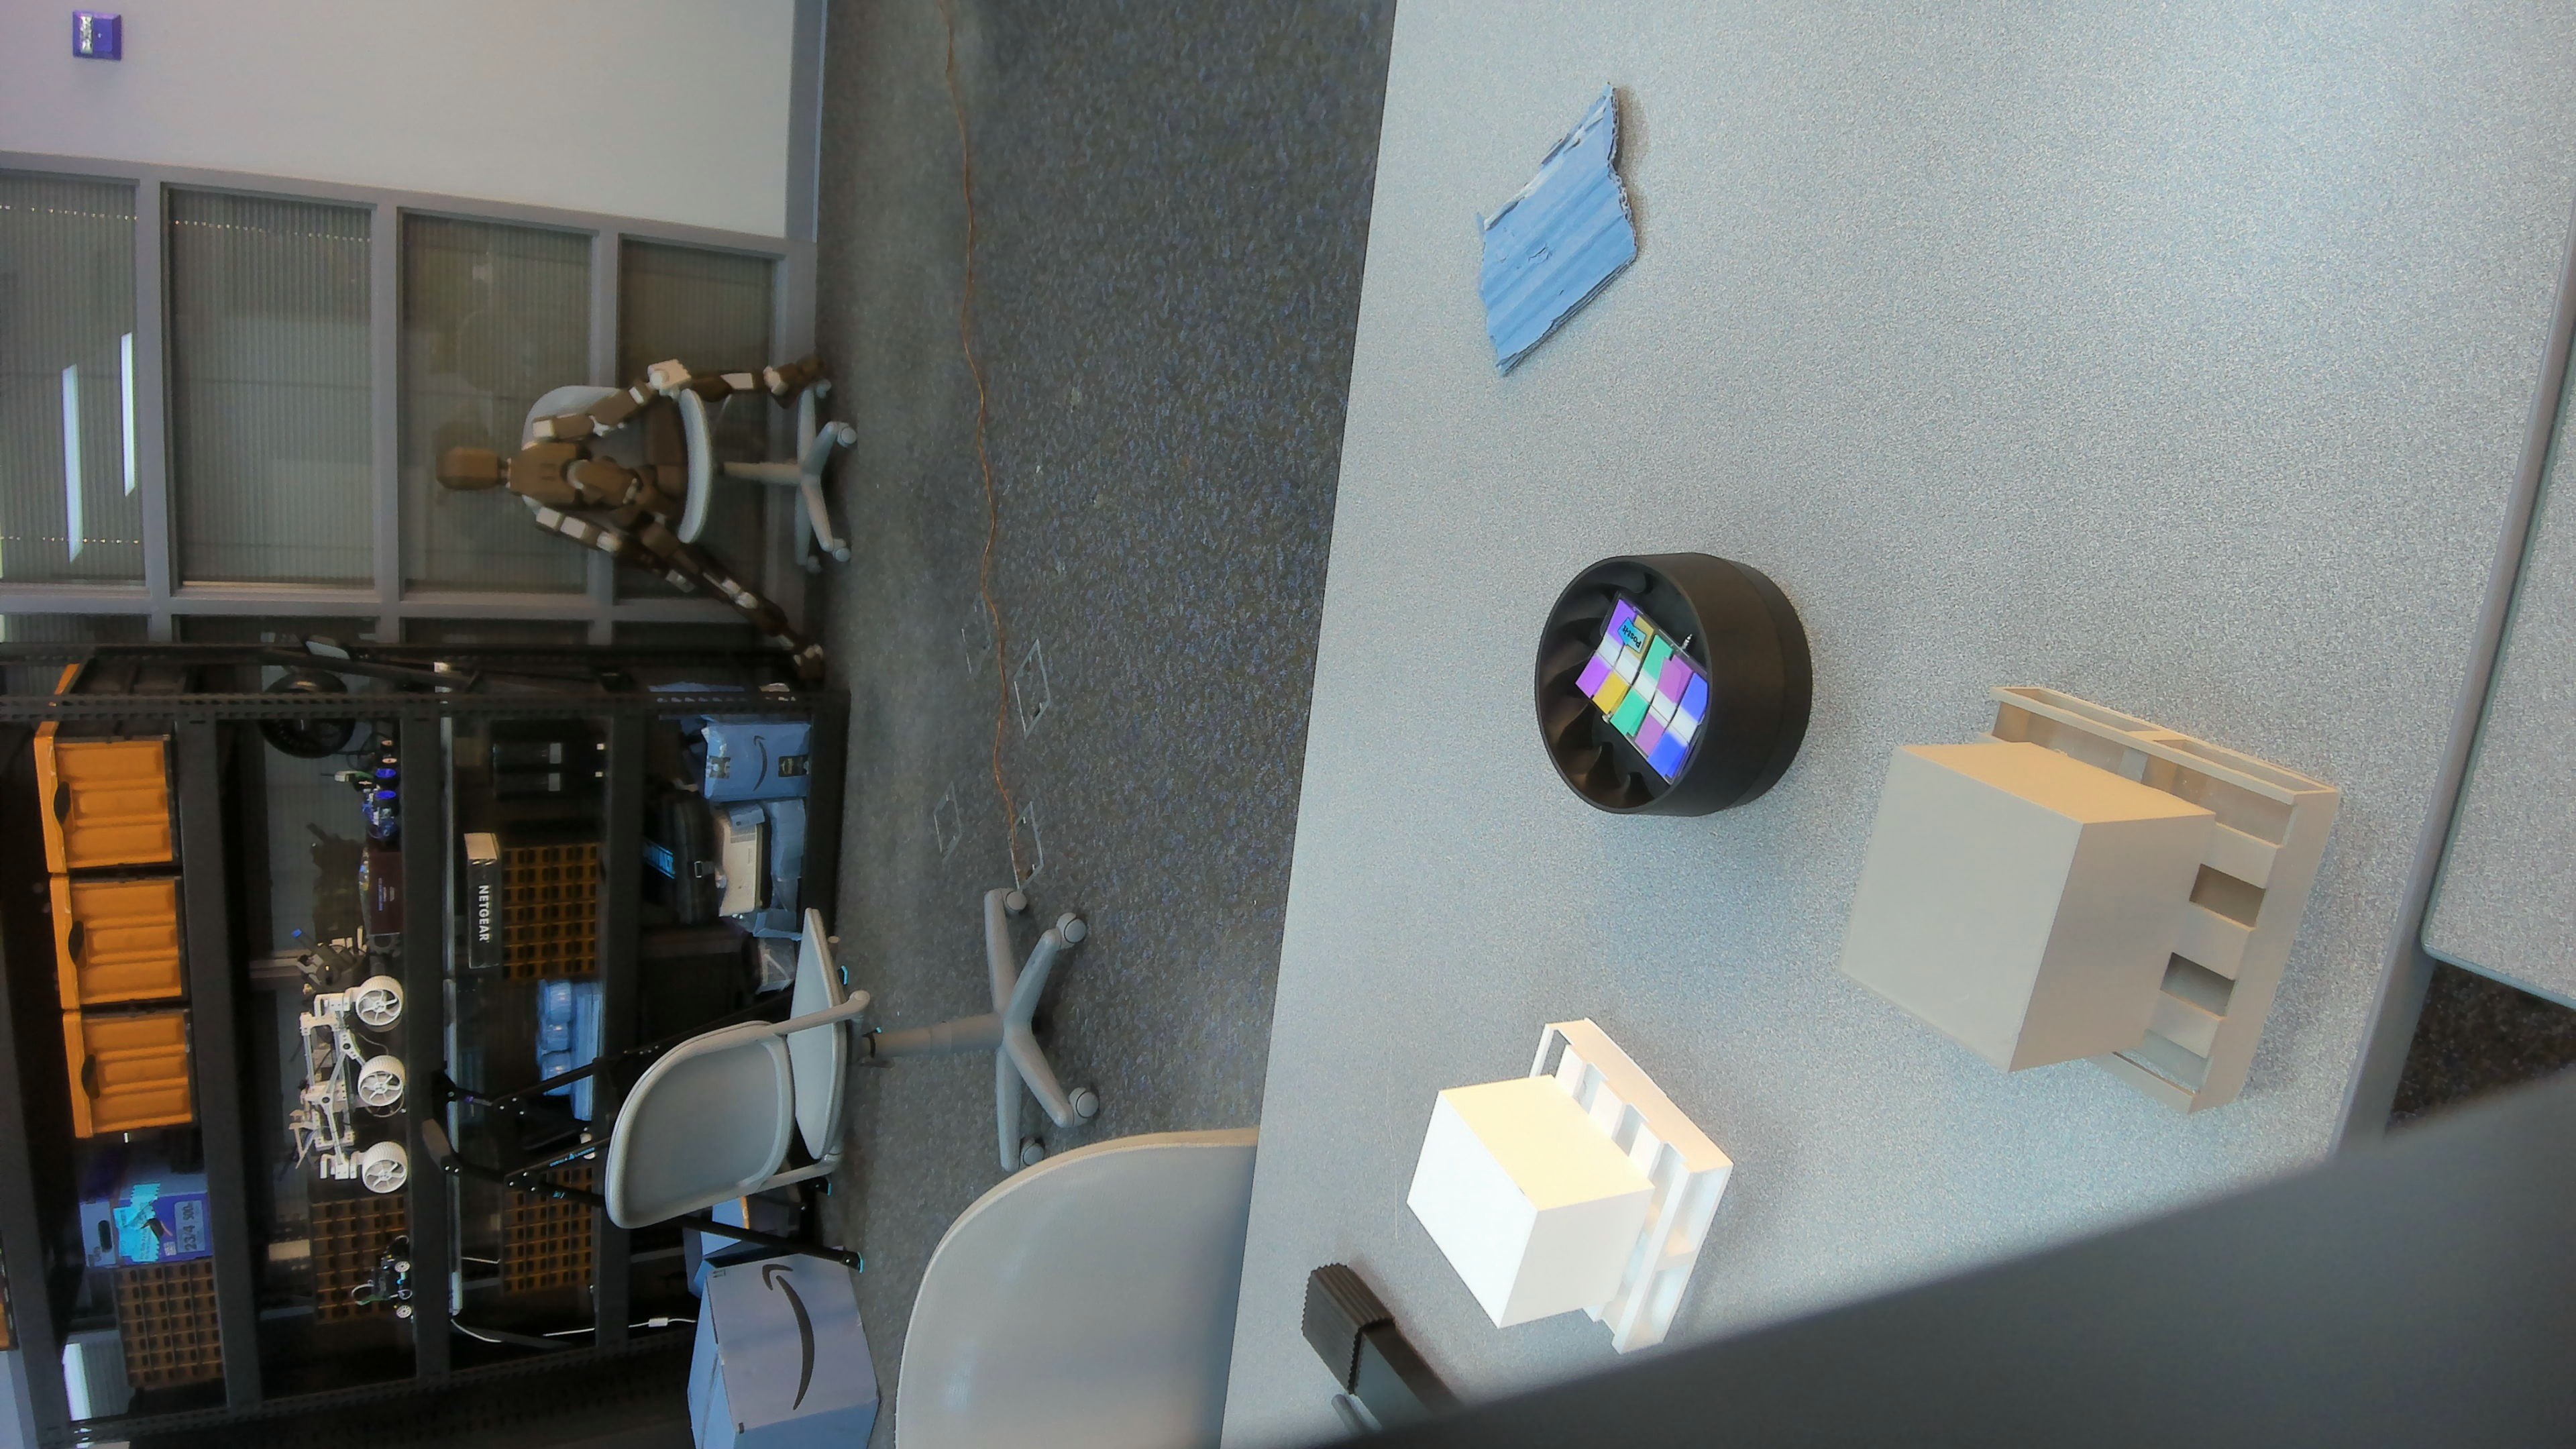grey pallet: (1828, 665, 2348, 1134)
white pallet: (1387, 1005, 1739, 1366)
